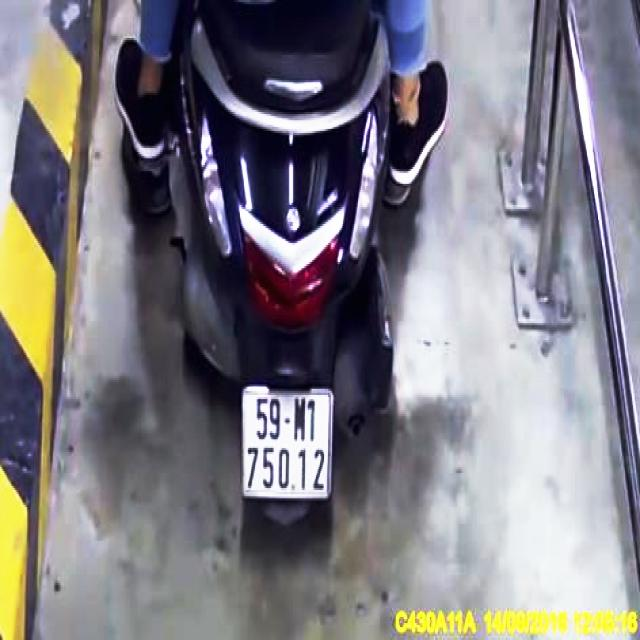license_plate: (243, 391, 334, 503)
